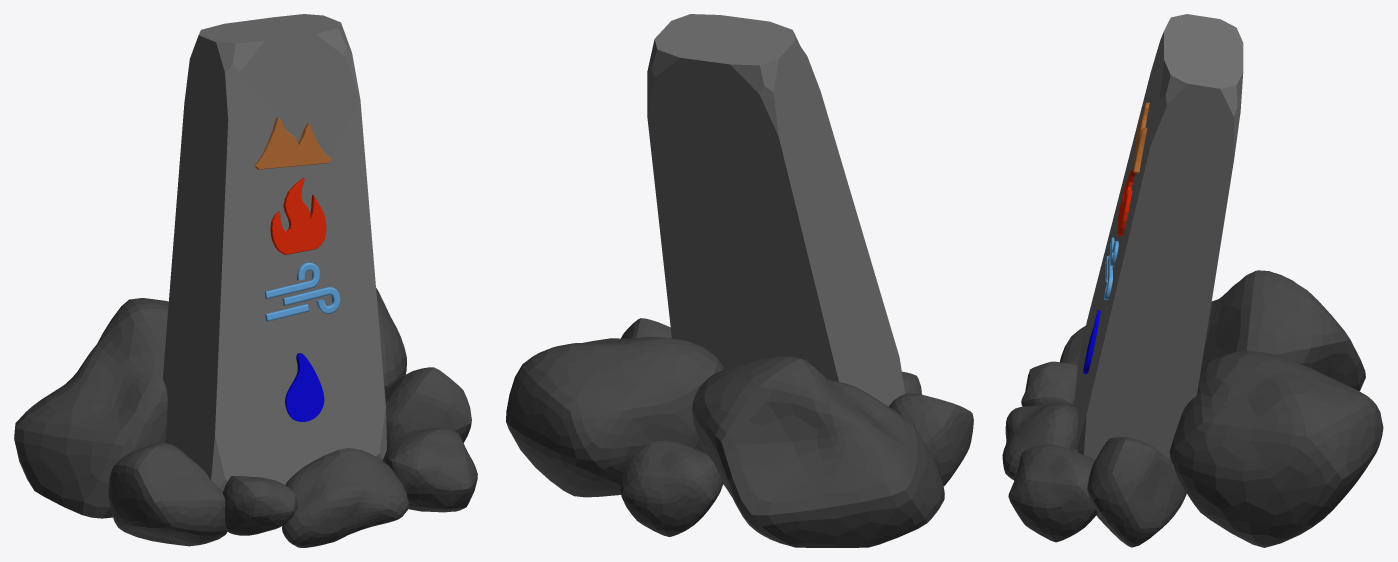
File: Stele.fbx
3 views of the same model, side by side, from view 1: azimuth 30°, elevation 25°; view 2: azimuth 150°, elevation 25°; view 3: azimuth 270°, elevation 25° (orthographic). The views are drawn at different scales.
Visible parts, largest first — view 1: stele, Icosphere.003, Icosphere.005, Icosphere.006, Icosphere.002, Icosphere.001, Icosphere.007, feu, terre, air, eau, Icosphere; view 2: stele, Icosphere.003, Icosphere, Icosphere.004, Icosphere.005, Icosphere.001; view 3: stele, Icosphere, Icosphere.003, Icosphere.001, Icosphere.002, Icosphere.006, Icosphere.007, feu, terre, Icosphere.005, air.
Boxes of the visible parts, x1=… form: stele: x1=163, y1=14, x2=386, y2=492; Icosphere.003: x1=14, y1=298, x2=168, y2=518; Icosphere.005: x1=108, y1=443, x2=227, y2=546; Icosphere.006: x1=282, y1=448, x2=408, y2=547; Icosphere.002: x1=382, y1=428, x2=477, y2=512; Icosphere.001: x1=384, y1=367, x2=471, y2=444; Icosphere.007: x1=223, y1=476, x2=296, y2=535; feu: x1=270, y1=177, x2=326, y2=254; terre: x1=254, y1=117, x2=331, y2=169; air: x1=265, y1=262, x2=340, y2=321; eau: x1=285, y1=353, x2=324, y2=421; Icosphere: x1=376, y1=288, x2=406, y2=390; stele: x1=647, y1=14, x2=905, y2=406; Icosphere.003: x1=692, y1=356, x2=944, y2=547; Icosphere: x1=506, y1=336, x2=723, y2=497; Icosphere.004: x1=620, y1=440, x2=723, y2=536; Icosphere.005: x1=888, y1=393, x2=973, y2=485; Icosphere.001: x1=621, y1=318, x2=671, y2=338; stele: x1=1073, y1=14, x2=1243, y2=460; Icosphere: x1=1170, y1=351, x2=1383, y2=547; Icosphere.003: x1=1201, y1=270, x2=1365, y2=391; Icosphere.001: x1=1087, y1=437, x2=1186, y2=547; Icosphere.002: x1=1008, y1=444, x2=1097, y2=542; Icosphere.006: x1=1002, y1=402, x2=1078, y2=480; Icosphere.007: x1=1021, y1=361, x2=1077, y2=406; feu: x1=1117, y1=169, x2=1135, y2=236; terre: x1=1133, y1=102, x2=1149, y2=173; Icosphere.005: x1=1060, y1=325, x2=1085, y2=365; air: x1=1104, y1=237, x2=1118, y2=300.
Size of the model in its own units: 191 by 223 by 170.
